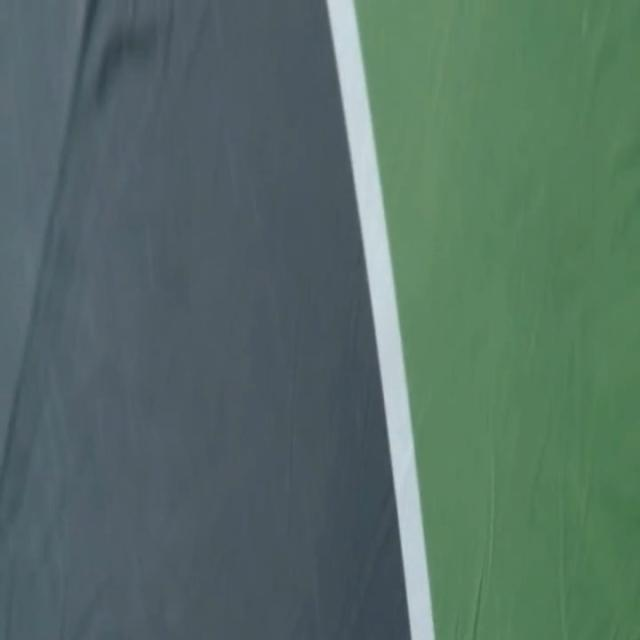right: (326, 0, 434, 639)
